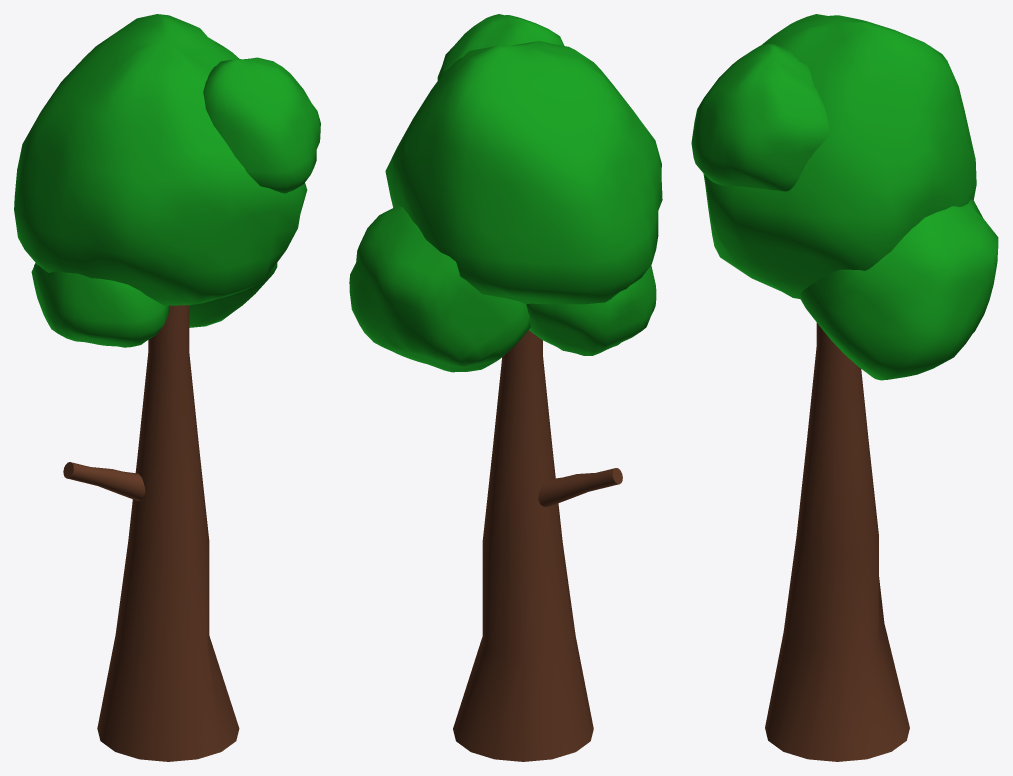
The model's file is arbre 1.FBX.
3 views of the same model, side by side, from view 1: azimuth 30°, elevation 25°; view 2: azimuth 150°, elevation 25°; view 3: azimuth 270°, elevation 25° (orthographic). The views are drawn at different scales.
Visible parts, largest first — view 1: Sphere002, Cylinder004; view 2: Sphere002, Cylinder004; view 3: Sphere002, Cylinder004.
Boxes of the visible parts, x1,y1,x2,y2 form: Sphere002: (14,14,320,347); Cylinder004: (63,305,239,761); Sphere002: (349,14,662,372); Cylinder004: (453,330,622,761); Sphere002: (691,14,998,380); Cylinder004: (765,323,909,761).
Size of the model in its own units: 178 by 452 by 176.
